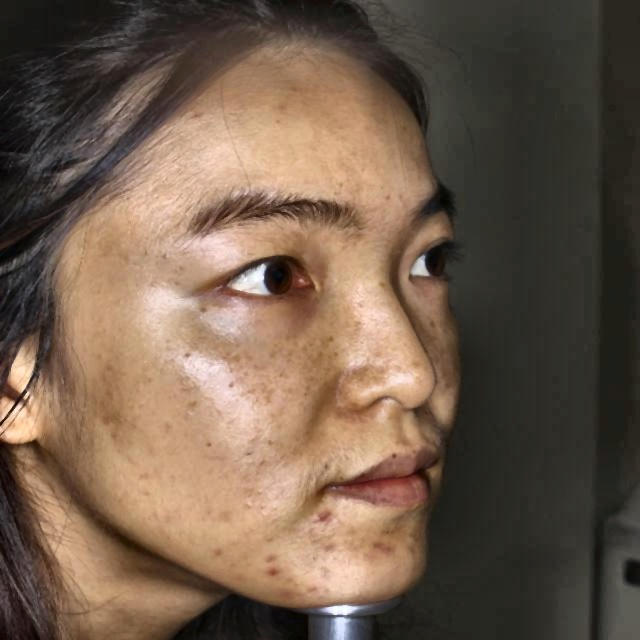comedone: (247, 560, 293, 583), (310, 505, 342, 531), (371, 539, 393, 560)
